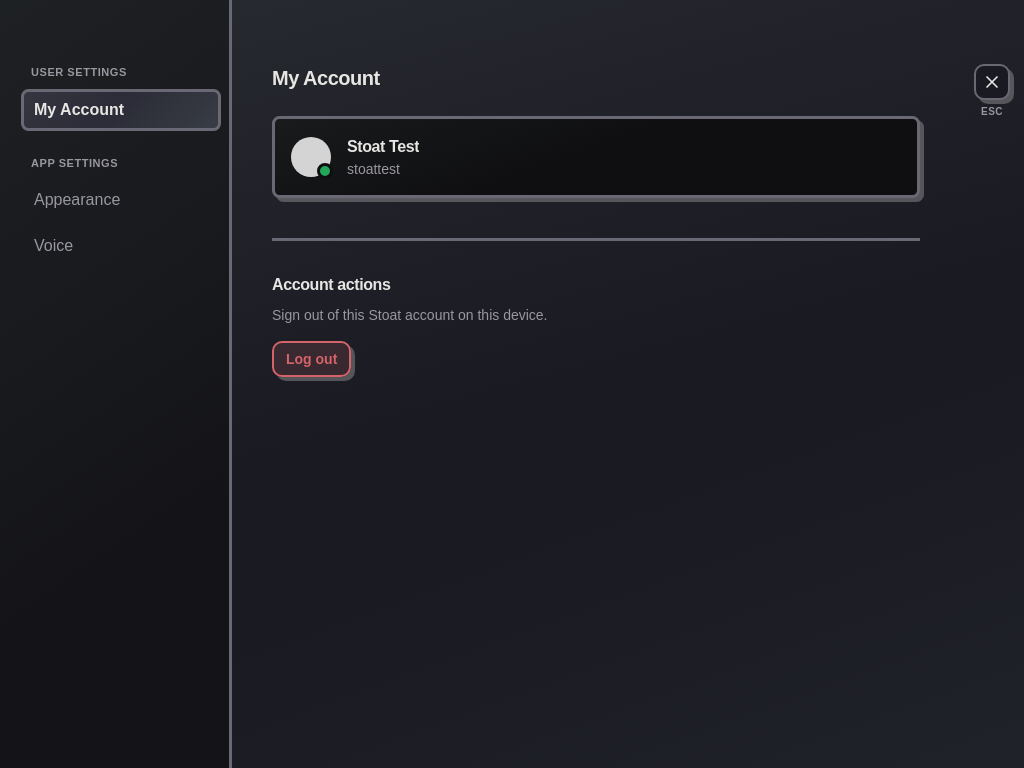
Test: SettingsOverlay › requires confirmation before logging out
This screenshot has width=1024, height=768.
Click the button with test id "open-logout" at (312, 359), box [272,341,351,377]
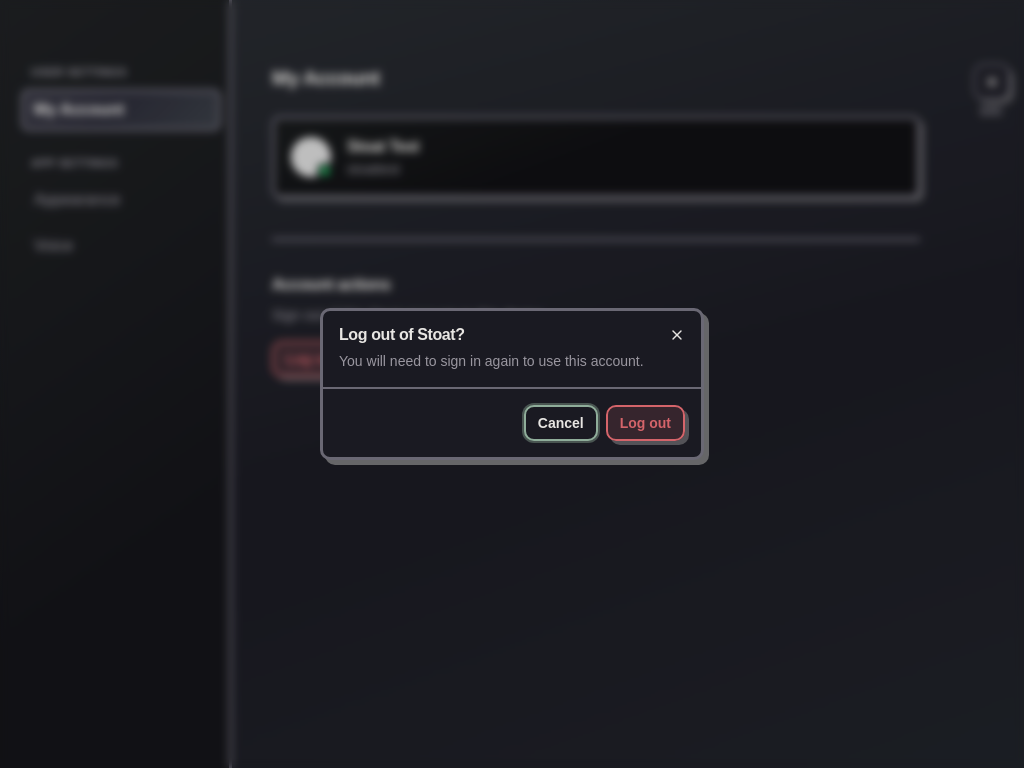
Check: the dialog is shown, box [320,308,704,460]
Check: the button "Cancel" is shown, box [524,405,598,441]
